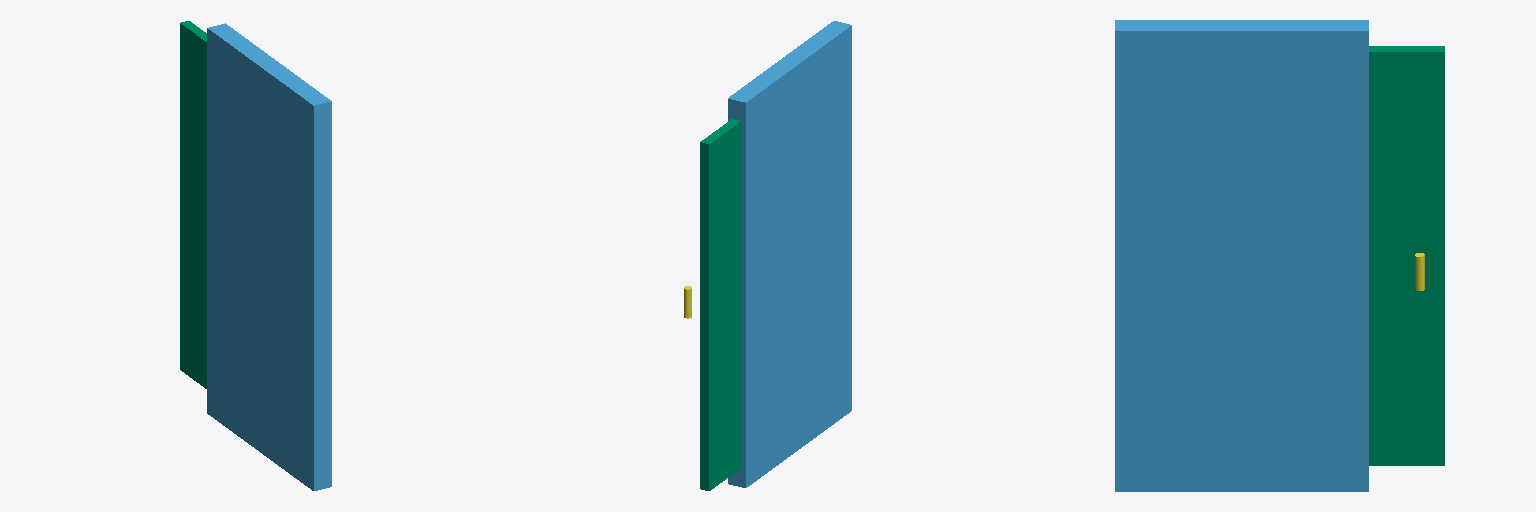
The robot description file, URDF, robot "right_pull_door":
<?xml version="1.0" ?>
<robot name="right_pull_door">
	<link name="base">
		<inertial>
			<origin xyz="0 0 0" rpy="0 0 0"/>
			<mass value="1000.0"/>
			<inertia ixx="1.0" ixy="0.0" ixz="0.0" iyy="1.0" iyz="0.0" izz="1.0"/>
		</inertial>
		<visual>
			<origin xyz="0 0 0"/>
			<geometry>
				<box size="0.01 0.01 0.01"/>
			</geometry>
		</visual>
		<collision>
			<origin xyz="0 0 0"/>
			<geometry>
				<box size="0.01 0.01 0.01"/>
			</geometry>
		</collision>
	</link>
	
	<link name="door_frame">
		<inertial>
			<origin xyz="0 0 1.0" rpy="0 0 0"/>
			<mass value="50.0"/>
			<inertia ixx="10.0" ixy="0.0" ixz="0.0" iyy="10.0" iyz="0.0" izz="10.0"/>
		</inertial>
		<visual>
			<origin xyz="0 0 1.0"/>
			<geometry>
				<box size="0.1 1.0 2.0"/>
			</geometry>
		</visual>
		<collision>
			<origin xyz="0 0 1.0"/>
			<geometry>
				<box size="0.1 1.0 2.0"/>
			</geometry>
		</collision>
	</link>
	
	<joint name="base_to_frame" type="fixed">
		<origin rpy="0 0 0" xyz="0 0 0"/>
		<child link="door_frame"/>
		<parent link="base"/>
	</joint>
	
	<link name="door_panel">
		<inertial>
			<origin xyz="0 0.5 1.0" rpy="0 0 0"/>
			<mass value="25.0"/>
			<inertia ixx="5.0" ixy="0.0" ixz="0.0" iyy="5.0" iyz="0.0" izz="5.0"/>
		</inertial>
		<visual>
			<origin xyz="0 0.4 1.0"/>
			<geometry>
				<box size="0.05 0.8 1.8"/>
			</geometry>
		</visual>
		<collision>
			<origin xyz="0 0.4 1.0"/>
			<geometry>
				<box size="0.05 0.8 1.8"/>
			</geometry>
		</collision>
	</link>
	
	<joint name="door_hinge" type="revolute">
		<origin xyz="0 0 0"/>
		<axis xyz="0 0 1"/>
		<child link="door_panel"/>
		<parent link="door_frame"/>
		<limit lower="0" upper="1.5708"/>
		<dynamics damping="0.1" friction="0.1"/>
	</joint>
	
	<link name="door_handle">
		<inertial>
			<origin xyz="0 0 0" rpy="0 0 0"/>
			<mass value="2.0"/>
			<inertia ixx="0.1" ixy="0.0" ixz="0.0" iyy="0.1" iyz="0.0" izz="0.1"/>
		</inertial>
		<visual>
			<origin xyz="0.1 0 0"/>
			<geometry>
				<cylinder radius="0.02" length="0.15"/>
			</geometry>
		</visual>
		<collision>
			<origin xyz="0.1 0 0"/>
			<geometry>
				<cylinder radius="0.02" length="0.15"/>
			</geometry>
		</collision>
	</link>
	
	<joint name="handle_joint" type="revolute">
		<origin xyz="0.05 0.7 1.0"/>
		<child link="door_handle"/>
		<parent link="door_panel"/>
		<axis xyz="0 0 1"/>
		<limit lower="0" upper="1.5708"/>
		<dynamics damping="0.05" friction="0.05"/>
	</joint>
</robot>

--- Render facts (derived) ---
Views: 3 orthographic renders of the robot side by side, from view 1: azimuth 30°, elevation 25°; view 2: azimuth 150°, elevation 25°; view 3: azimuth 270°, elevation 25°.
Model right_pull_door with 4 links and 3 joints (2 revolute, 1 fixed), rooted at base, posed all joints at 0.
Links seen in each view (by area): view 1: door_frame, door_panel; view 2: door_frame, door_panel; view 3: door_frame, door_panel.
Boxes of the visible links, box(x1,y1,x2,y2) form: door_frame: box(207, 23, 331, 490); door_panel: box(180, 21, 206, 388); door_frame: box(728, 21, 851, 487); door_panel: box(700, 119, 740, 490); door_frame: box(1115, 20, 1368, 491); door_panel: box(1369, 46, 1444, 465).
Bounding box of the posed robot: 0.22 × 1.3 × 2 m (x, y, z).
Geometry: primitives only (box / cylinder / sphere), no mesh files.
